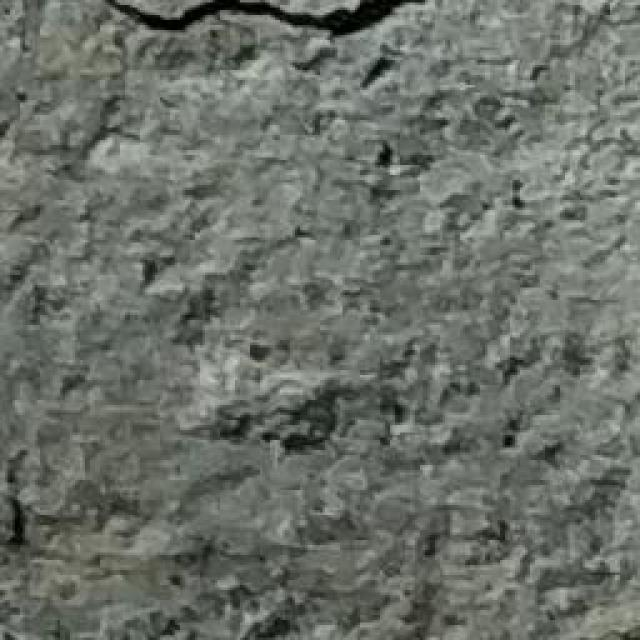Rippled: (0, 42, 638, 640)
Transverse: (110, 2, 413, 38)
